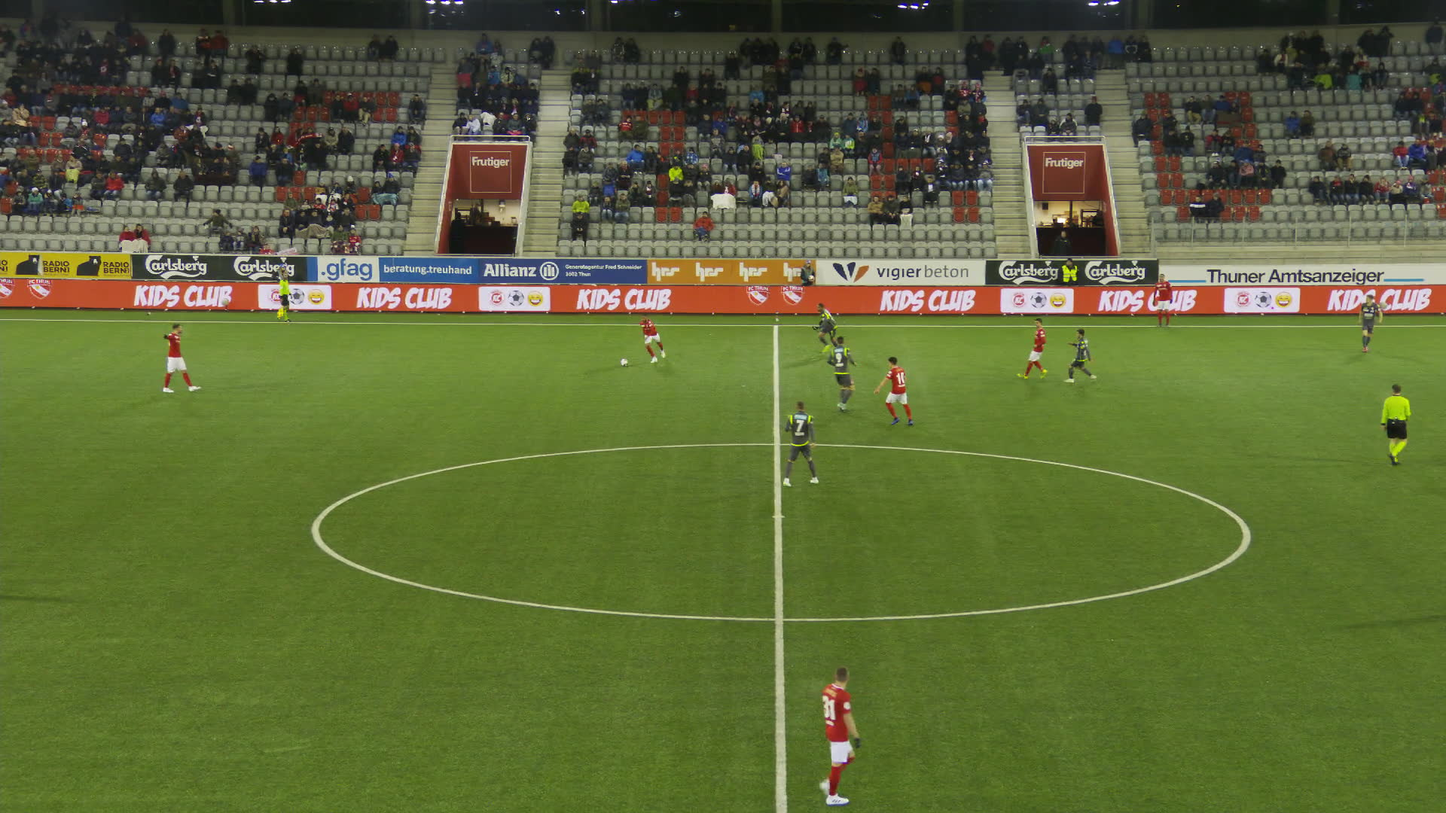ball: (621, 358, 630, 366)
player: (808, 665, 852, 805), (780, 399, 817, 486), (874, 355, 913, 426), (162, 322, 196, 392), (824, 336, 854, 412), (1062, 328, 1102, 382), (1020, 317, 1049, 379), (1356, 294, 1380, 352), (815, 304, 842, 349), (639, 314, 664, 362), (1152, 273, 1172, 326)
referee: (1380, 383, 1411, 466), (271, 272, 291, 322)
